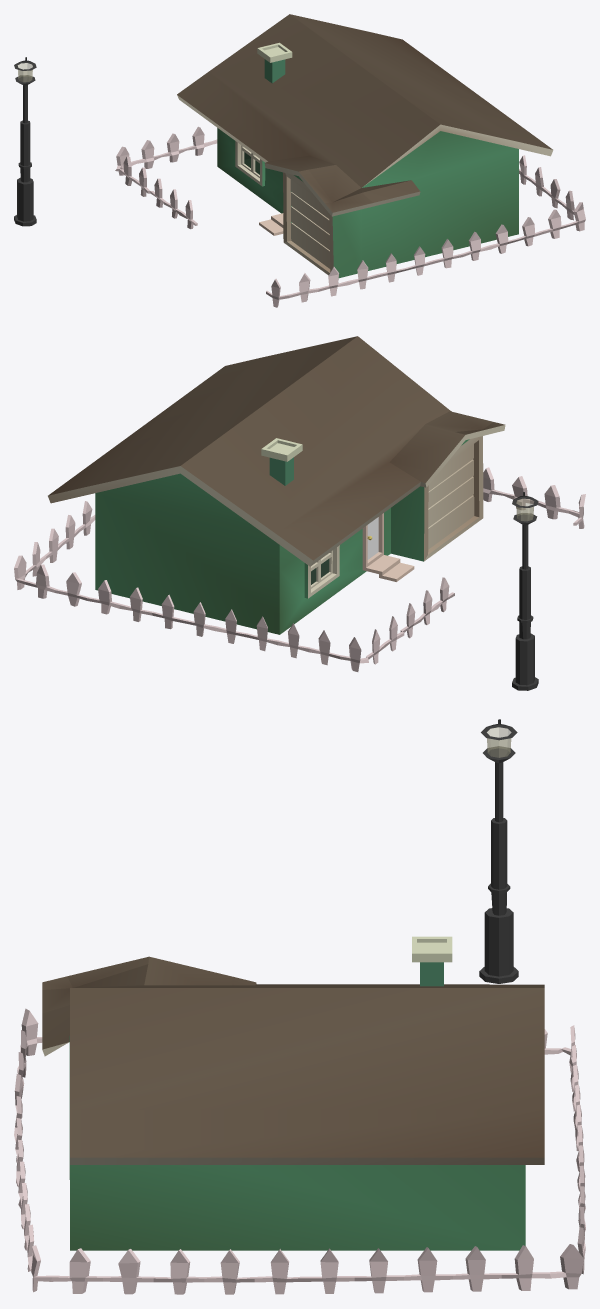
File: greenhouse.glb
The picture shows the model from 3 angles, top to bottom: view 1: azimuth 30°, elevation 25°; view 2: azimuth 150°, elevation 25°; view 3: azimuth 270°, elevation 25°; orthographic projection. The views are drawn at different scales.
Visible parts, largest first — view 1: Cube.001, Cube.004, Circle, Cube.002; view 2: Cube.001, Cube.004, Circle, Cube.003, Cube.002; view 3: Cube.001, Cube.004, Circle, Cube.002.
Boxes of the visible parts, x1=… form: Cube.001: x1=177, y1=14, x2=553, y2=278; Cube.004: x1=115, y1=126, x2=585, y2=307; Circle: x1=14, y1=57, x2=36, y2=226; Cube.002: x1=257, y1=42, x2=292, y2=83; Cube.001: x1=48, y1=336, x2=505, y2=634; Cube.004: x1=14, y1=467, x2=585, y2=671; Circle: x1=512, y1=492, x2=538, y2=690; Cube.003: x1=362, y1=513, x2=414, y2=581; Cube.002: x1=261, y1=438, x2=302, y2=485; Cube.001: x1=42, y1=956, x2=544, y2=1250; Cube.004: x1=14, y1=1008, x2=585, y2=1294; Circle: x1=479, y1=719, x2=518, y2=983; Cube.002: x1=412, y1=936, x2=452, y2=986.
Bounding box in the file's own units: 22.13 × 8.16 × 16.4.
